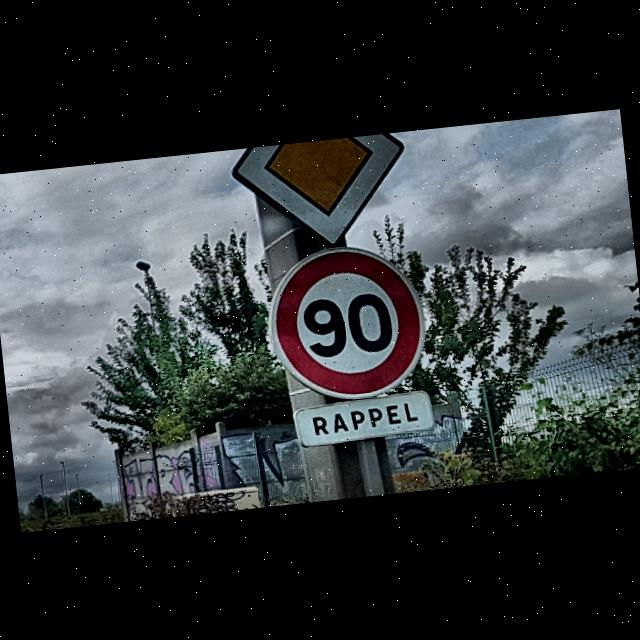speed_90: (261, 235, 431, 406)
